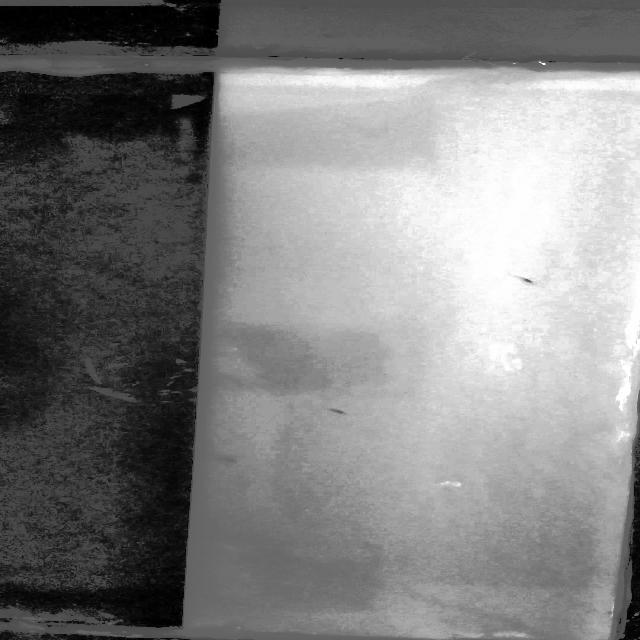shrimp: (313, 406, 355, 418), (507, 272, 541, 286)
